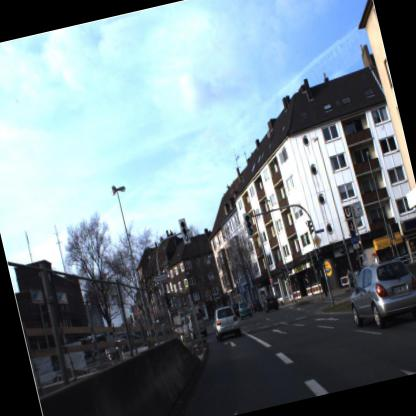other: (310, 232, 325, 250)
